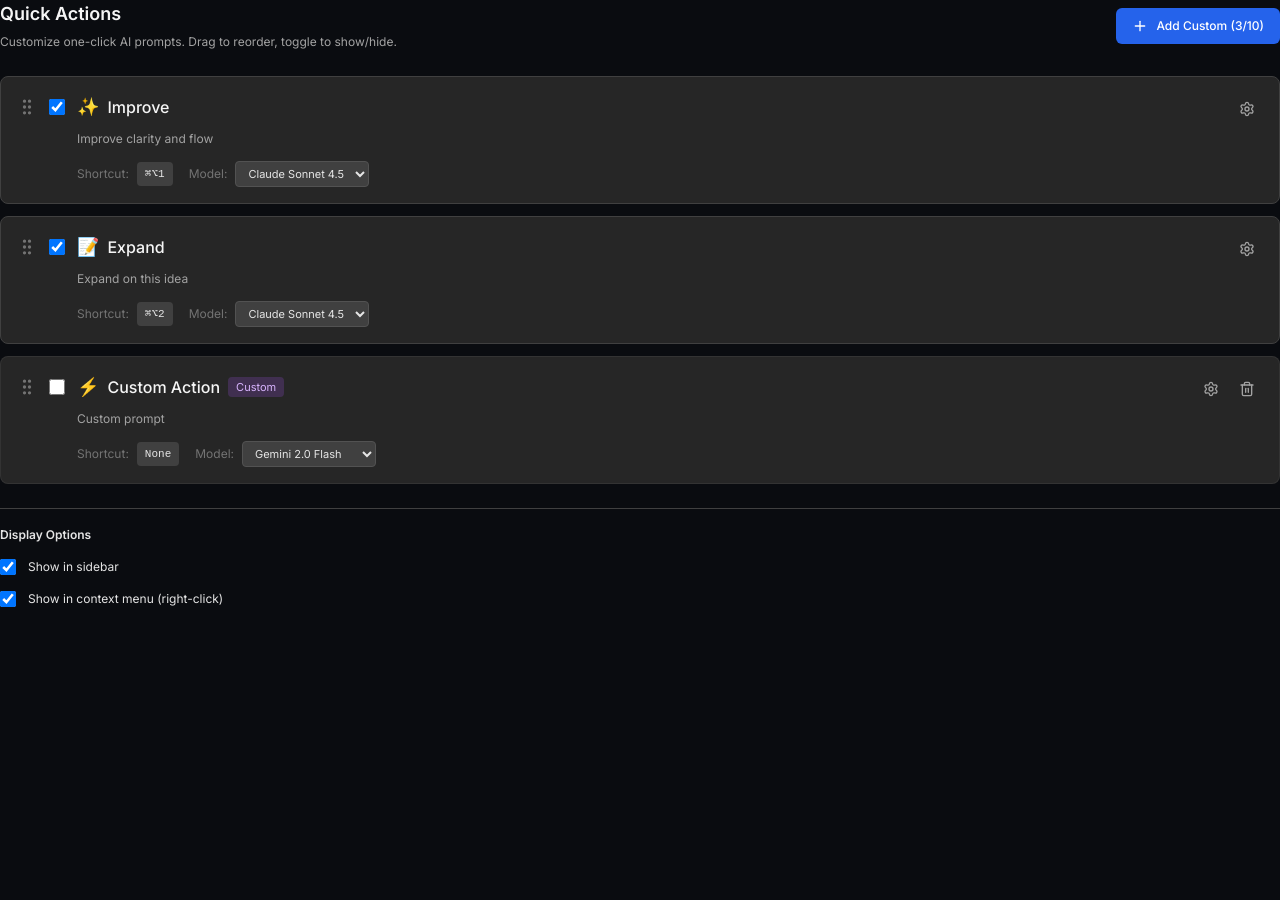
Test case: QuickActionsSettings › Add Custom Action › should open modal when Add Custom clicked
Click the button "Add Custom (3/10)": click(1198, 26) [1116,8,1279,44]
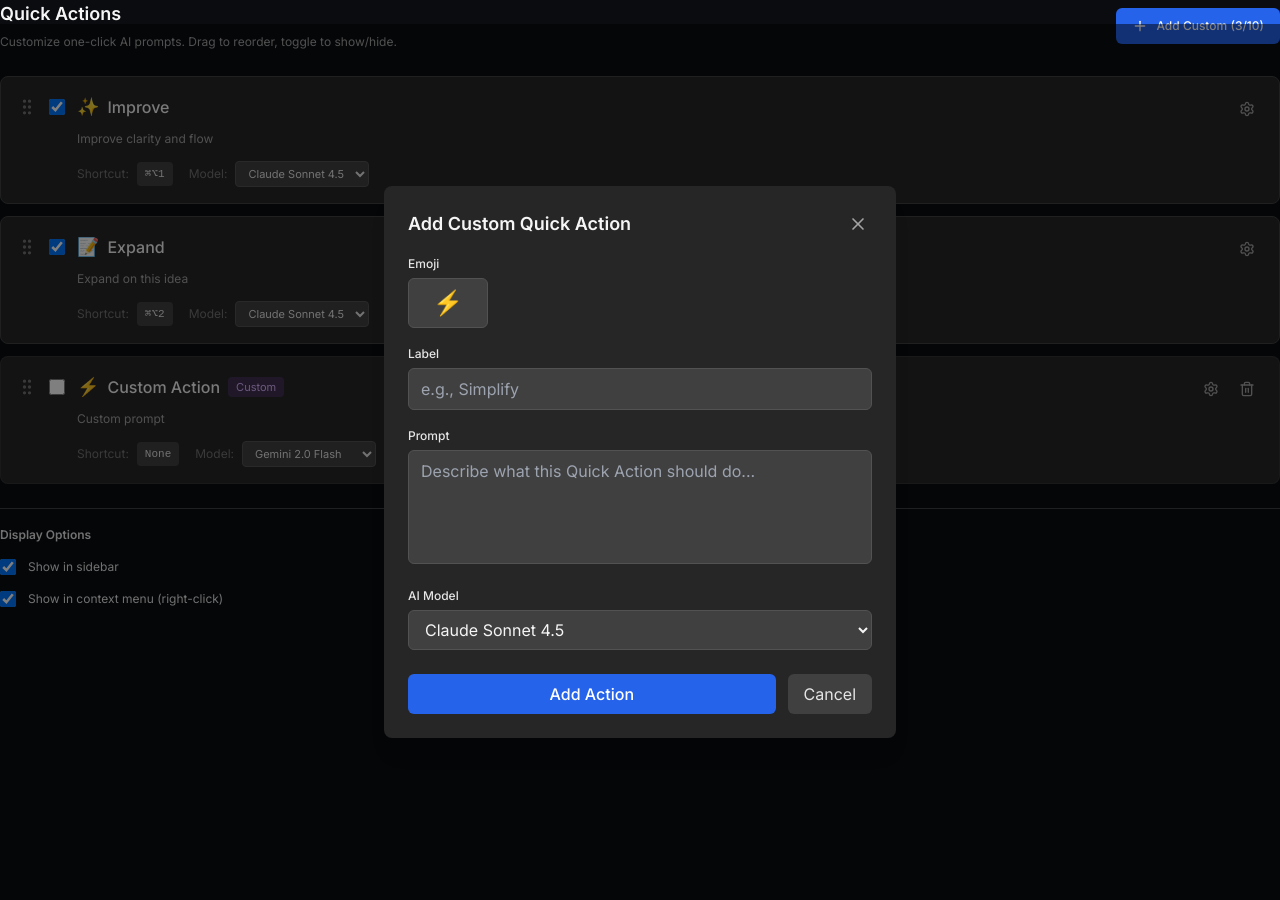
expect the heading "Add Custom Quick Action" is shown: met, box [408,210,631,238]
